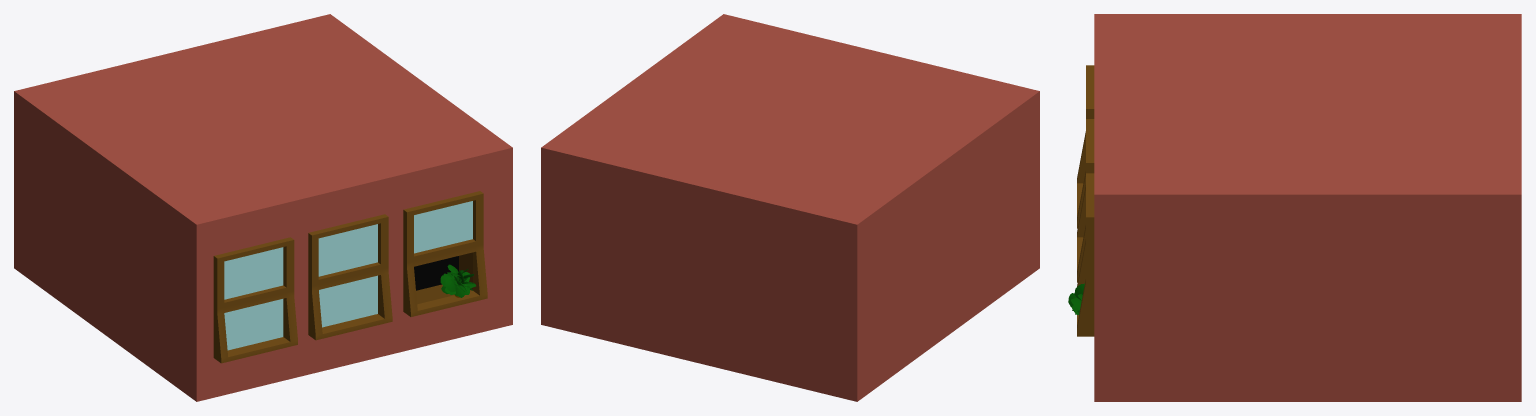
File: LevelV2.fbx
The picture shows the model from 3 angles, left to right: view 1: azimuth 30°, elevation 25°; view 2: azimuth 150°, elevation 25°; view 3: azimuth 270°, elevation 25°; orthographic projection. The views are drawn at different scales.
Parts seen in each view (by area): view 1: Level_V2__pCube6, pCube8, pCube7, pCube9, leaf_1; view 2: Level_V2__pCube6; view 3: Level_V2__pCube6, pCube9, pCube7, pCube8.
Boxes of the visible parts, bbox=[...] form: Level_V2__pCube6: bbox=[14, 14, 512, 401]; pCube8: bbox=[213, 237, 297, 363]; pCube7: bbox=[308, 214, 392, 340]; pCube9: bbox=[403, 191, 487, 316]; leaf_1: bbox=[440, 264, 475, 297]; Level_V2__pCube6: bbox=[541, 14, 1039, 401]; Level_V2__pCube6: bbox=[1094, 14, 1521, 401]; pCube9: bbox=[1077, 173, 1094, 336]; pCube7: bbox=[1077, 119, 1094, 282]; pCube8: bbox=[1077, 65, 1094, 228].
Bounding box in the file's own units: 25 × 13.39 × 26.52.
